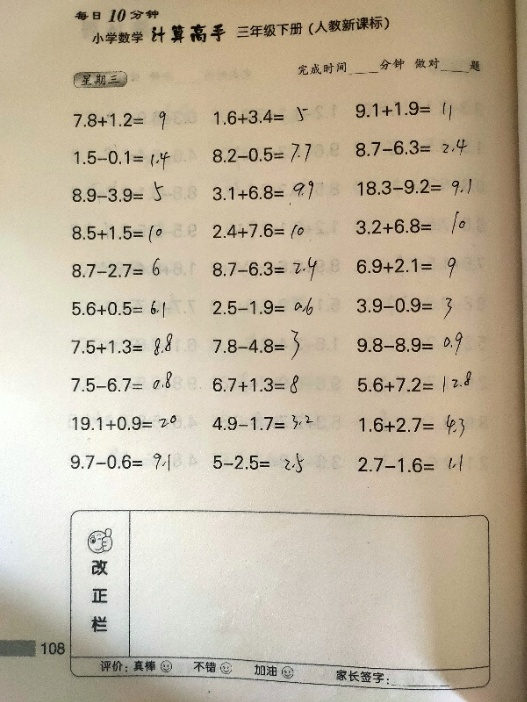equation: (351, 448, 475, 484), (350, 208, 471, 242), (347, 369, 475, 401), (208, 253, 323, 288), (348, 250, 466, 283), (349, 175, 479, 204), (350, 411, 470, 442), (344, 133, 475, 161), (208, 329, 312, 364), (62, 178, 173, 210), (351, 330, 472, 359), (67, 333, 180, 364), (63, 369, 186, 397), (69, 105, 178, 136), (63, 255, 175, 285), (211, 450, 340, 476), (348, 291, 459, 320), (350, 97, 463, 125), (68, 145, 176, 173), (207, 178, 323, 204), (68, 295, 175, 323), (207, 140, 322, 166), (204, 298, 327, 322), (63, 218, 171, 245), (208, 105, 324, 129), (67, 448, 173, 473), (201, 218, 314, 241), (206, 372, 310, 396), (69, 412, 179, 433), (209, 412, 316, 433)
